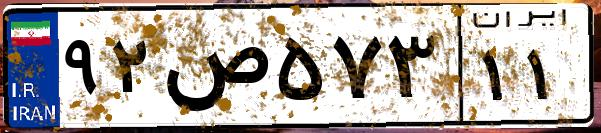1: (475, 38, 525, 113), (525, 38, 570, 115)
2: (110, 28, 158, 98)
3: (385, 28, 445, 110)
5: (270, 28, 330, 110)
7: (330, 28, 385, 110)
9: (57, 26, 110, 100)
ص: (158, 20, 270, 120)
